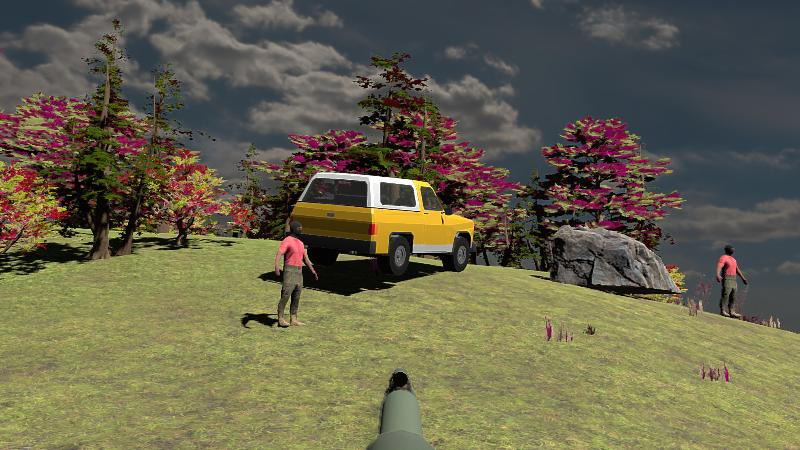Human: (275, 219, 318, 329), (718, 243, 747, 319)
car: (289, 172, 477, 278)
